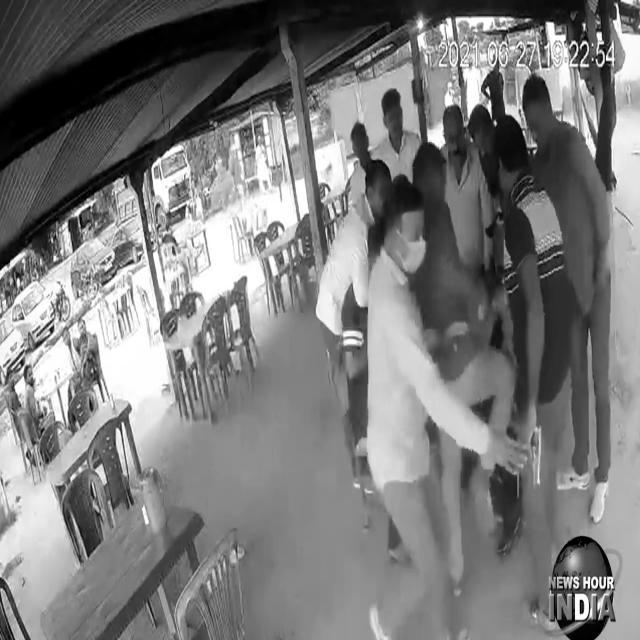Gun: (504, 406, 550, 494)
